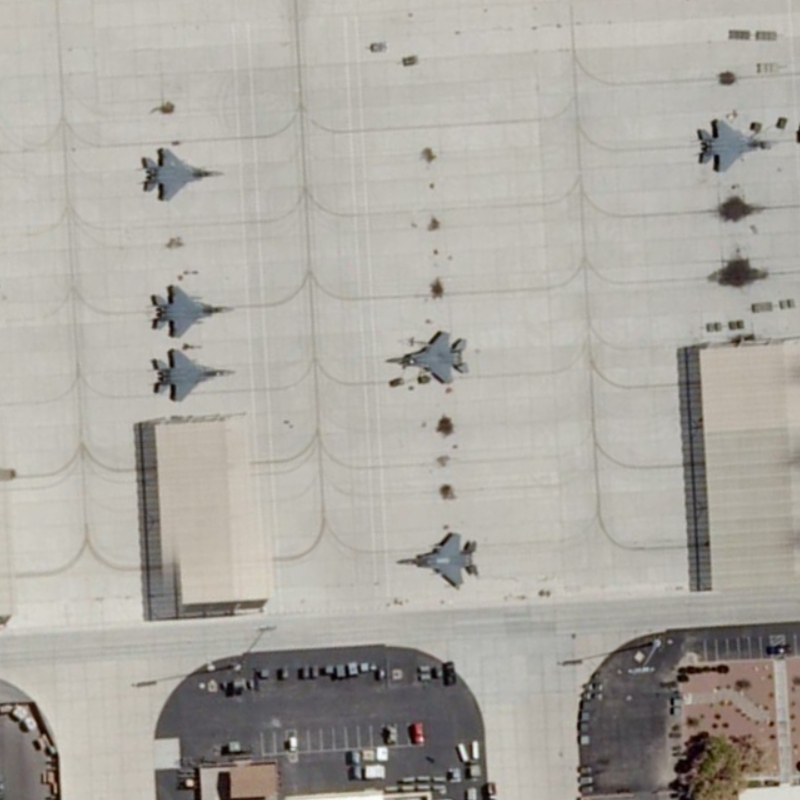A5: (378, 322, 475, 390), (691, 110, 786, 177), (391, 524, 482, 593), (141, 343, 241, 405), (143, 281, 237, 345), (139, 141, 227, 207)
